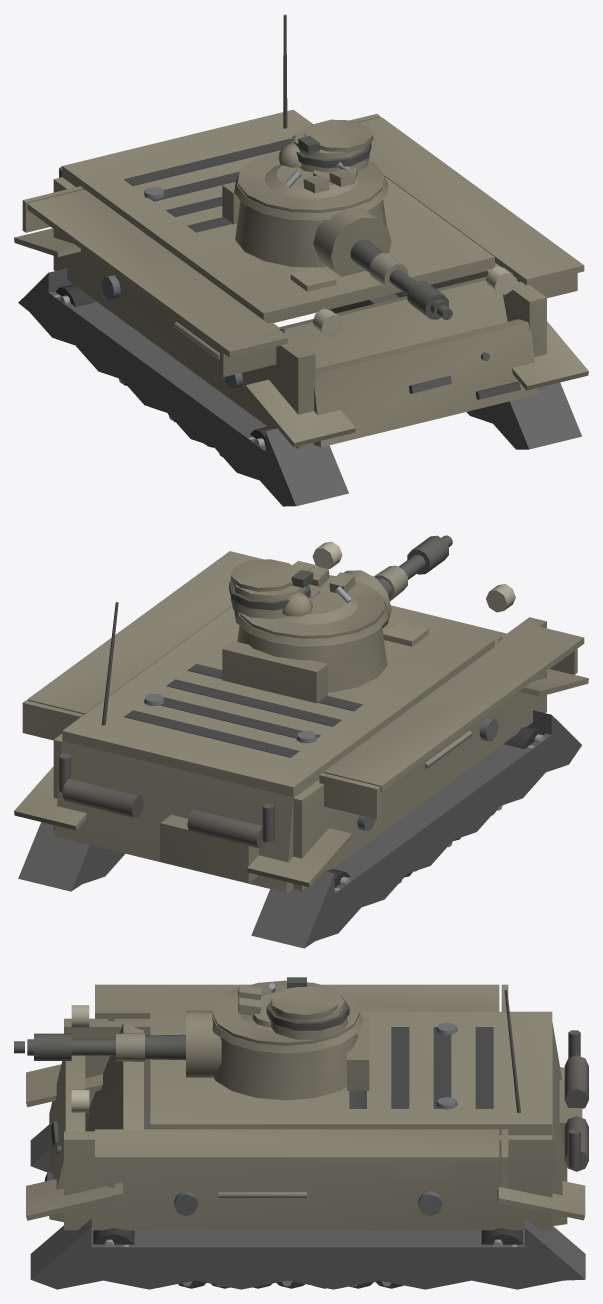
Rendered from vickersmed.glb.
3 views of the same model, one above another, from view 1: azimuth 30°, elevation 25°; view 2: azimuth 150°, elevation 25°; view 3: azimuth 270°, elevation 25° (orthographic).
Visible parts, largest first — view 1: hullSide, tracks, hullTop, lowerPlate, glacis, turretRoof, turretFront, mantlet, barrel, turretSide; view 2: hullSide, hullTop, tracks, hullRear, turretRoof, turretRear, turretFront, barrel, glacis, turretSide, wheel8, mantlet; view 3: hullSide, tracks, hullTop, turretRoof, turretFront, hullRear, barrel, glacis, lowerPlate, mantlet, turretSide, turretRear (+2 smaller).
Part boxes in pixels (x1,y1,x2,y2): hullSide: [22, 114, 584, 448]; tracks: [14, 228, 588, 506]; hullTop: [62, 109, 494, 323]; lowerPlate: [314, 319, 538, 447]; glacis: [279, 267, 520, 399]; turretRoof: [238, 119, 384, 212]; turretFront: [235, 200, 386, 267]; mantlet: [313, 208, 391, 276]; barrel: [350, 239, 452, 319]; turretSide: [234, 174, 388, 220]; hullSide: [22, 541, 584, 890]; hullTop: [62, 606, 494, 797]; tracks: [14, 669, 588, 948]; hullRear: [54, 602, 293, 892]; turretRoof: [229, 559, 384, 638]; turretRear: [222, 641, 327, 703]; turretFront: [237, 626, 387, 692]; barrel: [374, 535, 452, 601]; glacis: [383, 609, 501, 646]; turretSide: [234, 600, 388, 646]; wheel8: [504, 726, 544, 749]; mantlet: [344, 570, 391, 628]; hullSide: [64, 984, 552, 1230]; tracks: [26, 1064, 585, 1289]; hullTop: [150, 1011, 552, 1135]; turretRoof: [212, 977, 359, 1045]; turretFront: [214, 1033, 358, 1100]; hullRear: [504, 989, 588, 1225]; barrel: [14, 1032, 185, 1061]; glacis: [44, 1023, 185, 1181]; lowerPlate: [49, 1055, 85, 1222]; mantlet: [186, 1010, 221, 1077]; turretSide: [212, 1013, 363, 1053]; turretRear: [347, 1014, 369, 1090].
Size of the model in its own units: 3.68 by 2.73 by 5.18.
